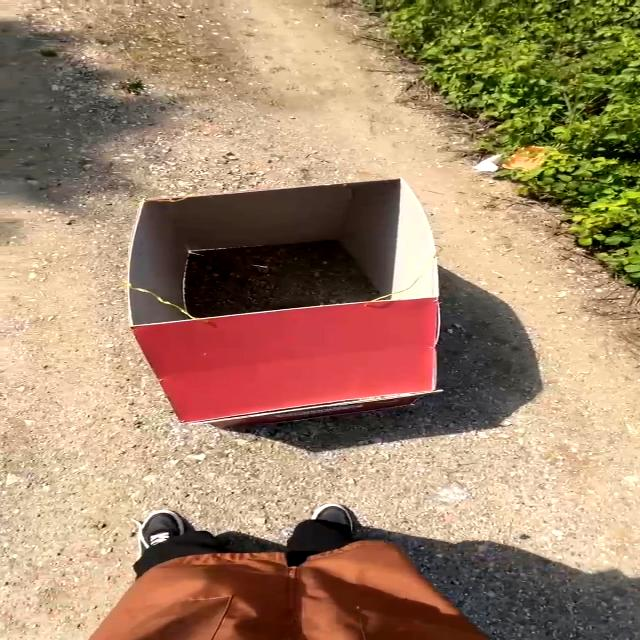red_car: (67, 163, 468, 442)
